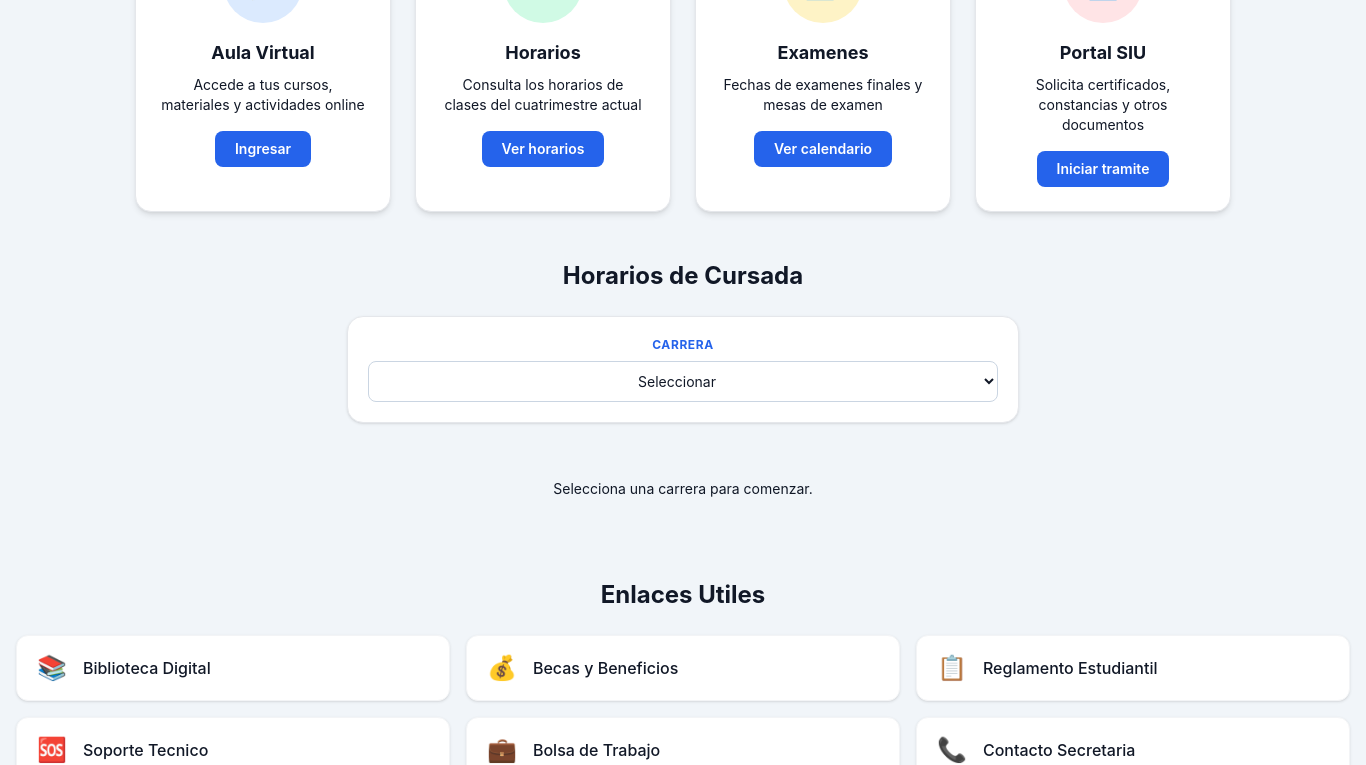
Test: EstudiantesPage › muestra mensaje "No hay horarios disponibles" si carrera sin comisiones
(page scrolled)
Select "Desarrollo de Software" in the dropdown showing "Seleccionar" at (683,381), box [368,360,998,402]
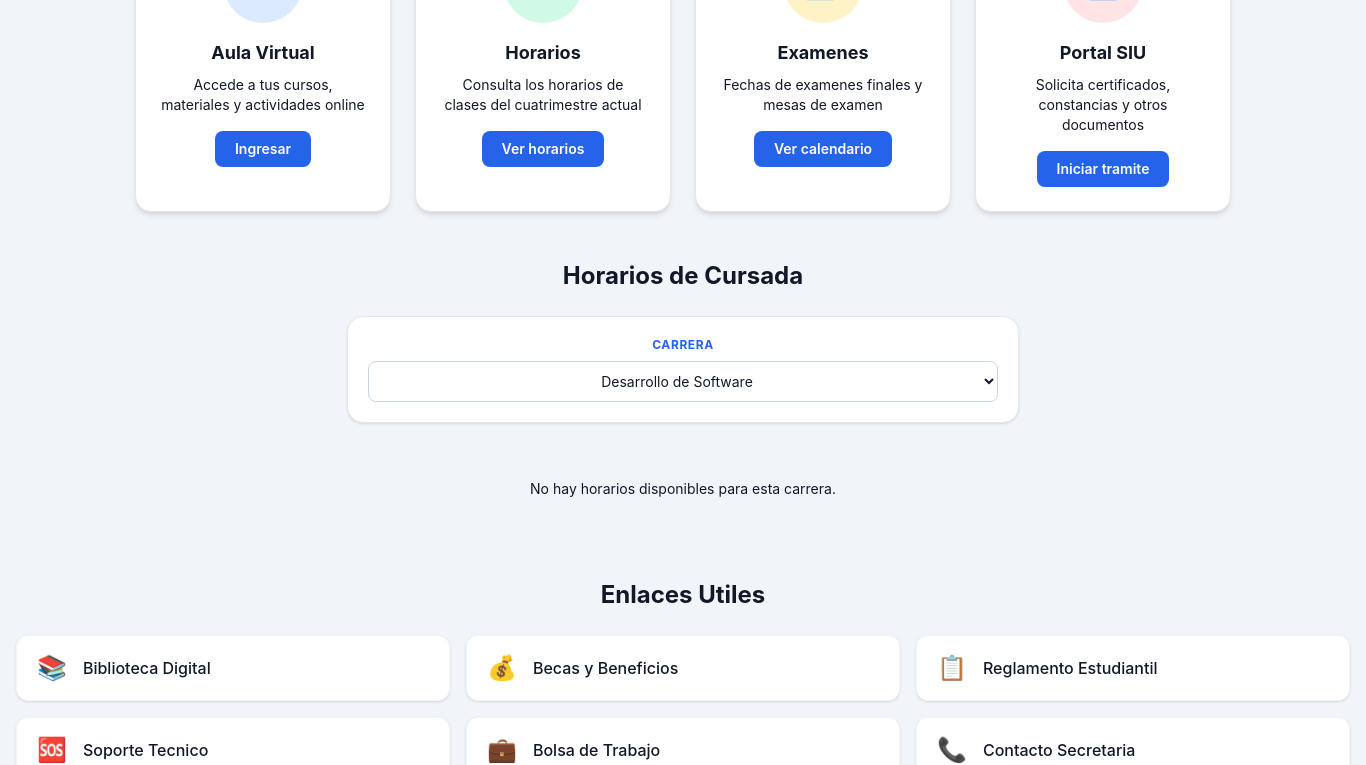
Expected: the text "No hay horarios disponibles para esta carrera." is shown, [530,480,836,496]
